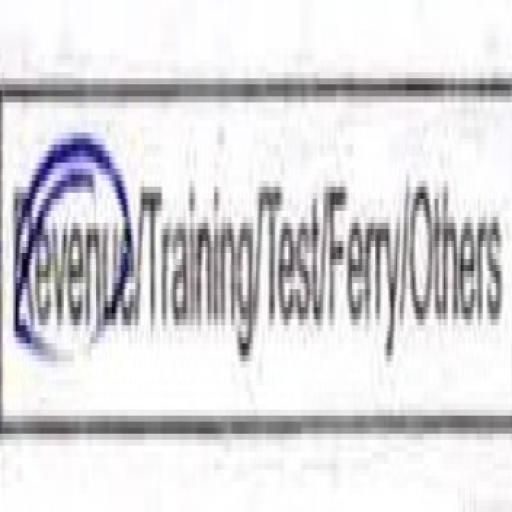check: (0, 36, 137, 458)
